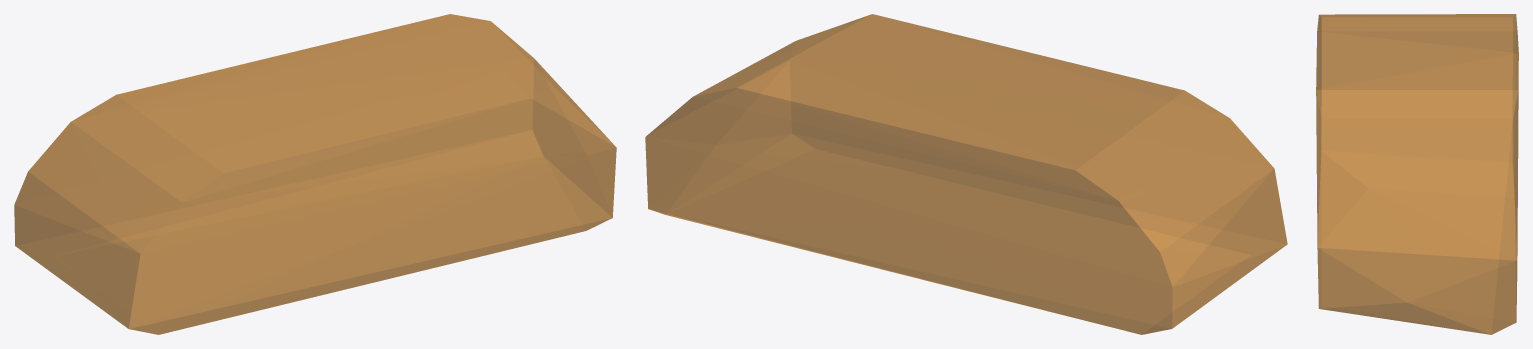
3 renders of one model, left to right at view 1: azimuth 30°, elevation 25°; view 2: azimuth 150°, elevation 25°; view 3: azimuth 270°, elevation 25°, orthographic. The views are drawn at different scales.
Visible parts, largest first — view 1: Shape_IndexedFaceSet.011_Shape_IndexedFaceSet.16478; view 2: Shape_IndexedFaceSet.011_Shape_IndexedFaceSet.16478; view 3: Shape_IndexedFaceSet.011_Shape_IndexedFaceSet.16478.
Boxes of the visible parts, x1,y1,x2,y2 form: Shape_IndexedFaceSet.011_Shape_IndexedFaceSet.16478: (14,14,616,334); Shape_IndexedFaceSet.011_Shape_IndexedFaceSet.16478: (645,14,1287,334); Shape_IndexedFaceSet.011_Shape_IndexedFaceSet.16478: (1316,14,1518,334).
Size of the model in its own units: 0.2005 by 0.0568 by 0.0761.
